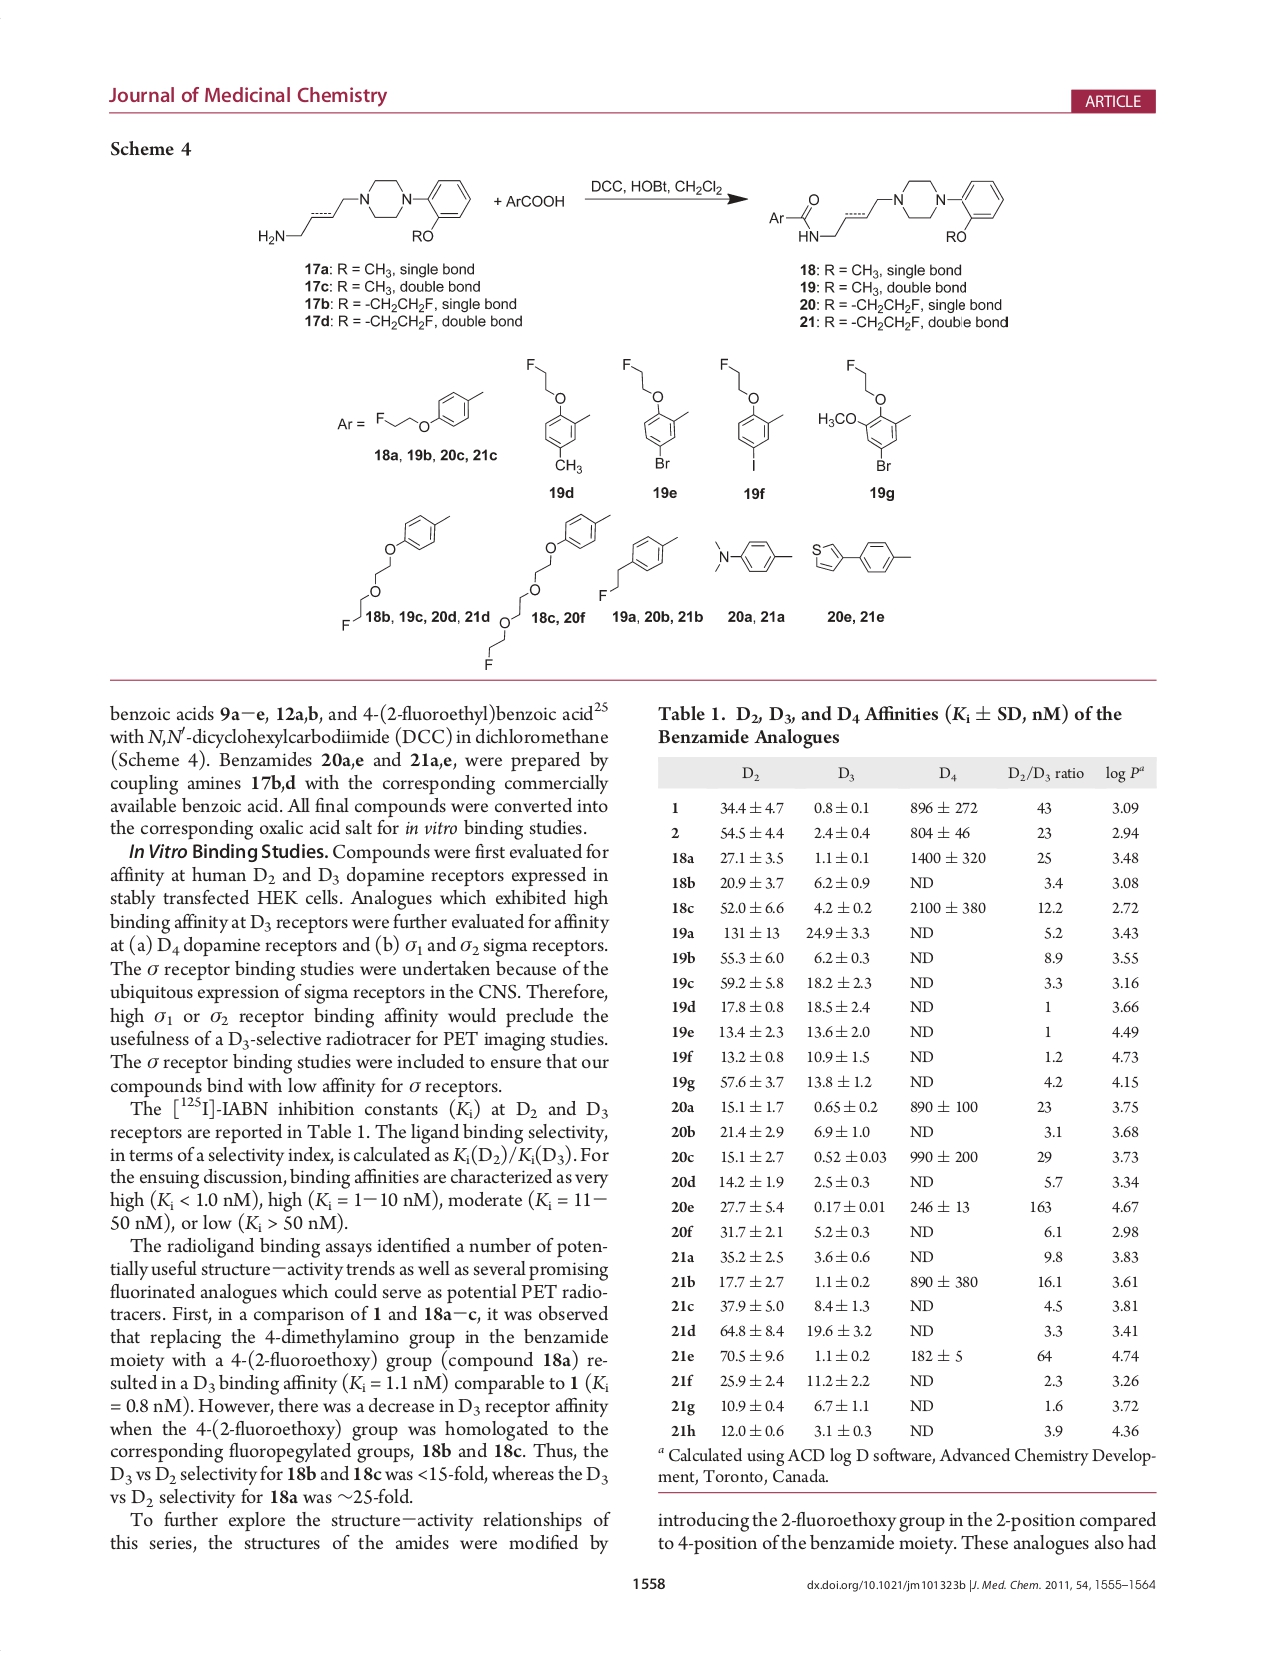exist_molecular: (481, 509, 609, 672), (761, 174, 1008, 253), (251, 174, 471, 251), (338, 508, 449, 630), (810, 351, 916, 476), (517, 350, 602, 473), (612, 351, 689, 469), (711, 352, 785, 473), (370, 384, 484, 438), (598, 529, 680, 602), (811, 531, 914, 576), (707, 535, 795, 578)
